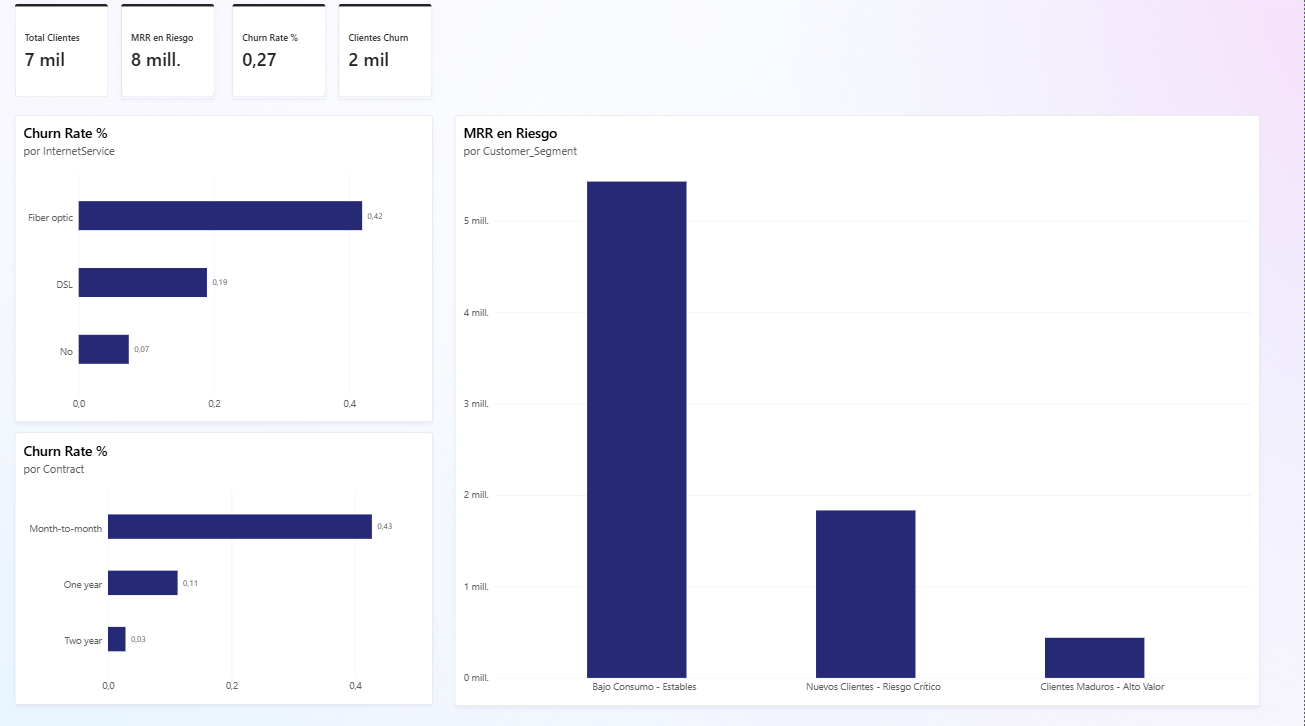

The dashboard page shown, as its layout file describes it:
{"tool":"powerbi","page":{"name":"Customer Retention & Churn Executive Overview","canvas":[1920,1080],"ordinal":0},"visuals":[{"type":"cardVisual","fields":{"Data":["_Medidas.Total Clientes"]},"box":[27.1,12.7,137.5,137.5],"z":0},{"type":"cardVisual","fields":{"Data":["_Medidas.MRR en Riesgo"]},"box":[182.8,12.7,137.5,137.5],"z":1000},{"type":"cardVisual","fields":{"Data":["_Medidas.Churn Rate %"]},"box":[347.5,12.7,137.5,137.5],"z":2000},{"type":"cardVisual","fields":{"Data":["_Medidas.Clientes Churn"]},"box":[503.1,12.7,137.5,137.5],"z":3000},{"type":"clusteredBarChart","fields":{"Category":["telco_churn_enriched.Contract"],"Y":["_Medidas.Churn Rate %"]},"box":[27.1,642.4,613.4,399.3],"z":4000},{"type":"clusteredColumnChart","fields":{"Category":["telco_churn_enriched.Customer_Segment"],"Y":["_Medidas.MRR en Riesgo"]},"box":[673.2,175.5,1181.7,866.8],"z":5000},{"type":"barChart","fields":{"Category":["telco_churn_enriched.InternetService"],"Y":["_Medidas.Churn Rate %"]},"box":[27.1,175.5,613.5,450.6],"z":6000}]}

Visuals, with their boxes in screenshot pixels (x1, y1, x2, y2), scaled from the page's 1920x1080 canvas onto the 1305x726 screenshot:
cardVisual - _Medidas.Total Clientes: bbox=[18, 9, 112, 101]
cardVisual - _Medidas.MRR en Riesgo: bbox=[124, 9, 218, 101]
cardVisual - _Medidas.Churn Rate %: bbox=[236, 9, 330, 101]
cardVisual - _Medidas.Clientes Churn: bbox=[342, 9, 435, 101]
clusteredBarChart - telco_churn_enriched.Contract x _Medidas.Churn Rate %: bbox=[18, 432, 435, 700]
clusteredColumnChart - telco_churn_enriched.Customer_Segment x _Medidas.MRR en Riesgo: bbox=[458, 118, 1261, 701]
barChart - telco_churn_enriched.InternetService x _Medidas.Churn Rate %: bbox=[18, 118, 435, 421]
